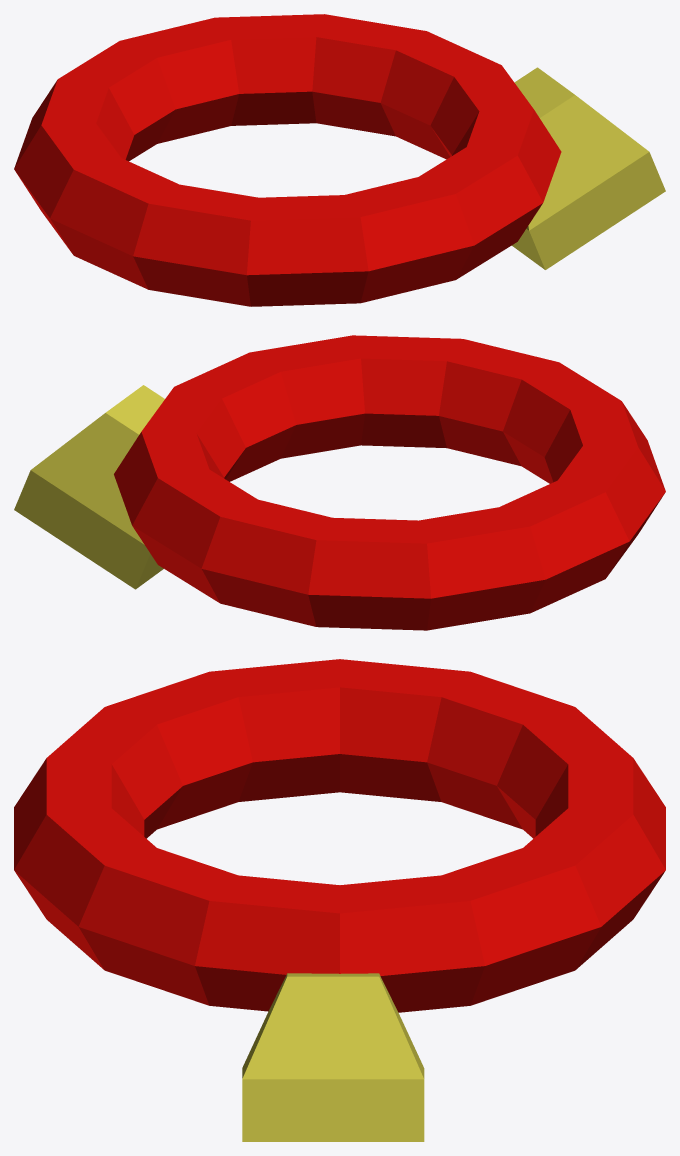
The model's file is LowPolyPetCollar_01.fbx.
3 renders of one model, top to bottom at view 1: azimuth 30°, elevation 25°; view 2: azimuth 150°, elevation 25°; view 3: azimuth 270°, elevation 25°, orthographic. The views are drawn at different scales.
Visible parts, largest first — view 1: Torus, Cube; view 2: Torus, Cube; view 3: Torus, Cube.
Part boxes in pixels (box(x1,y1,x2,y2)): Torus: box(14, 14, 561, 306); Cube: box(512, 67, 665, 269); Torus: box(114, 335, 665, 630); Cube: box(14, 385, 164, 589); Torus: box(14, 659, 665, 1012); Cube: box(242, 973, 424, 1141).
Size of the model in its own units: 303 by 88.73 by 244.
